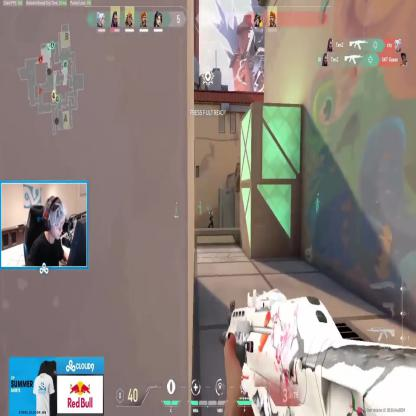enemy: (208, 208, 214, 228)
enemy_head: (210, 208, 212, 212)
